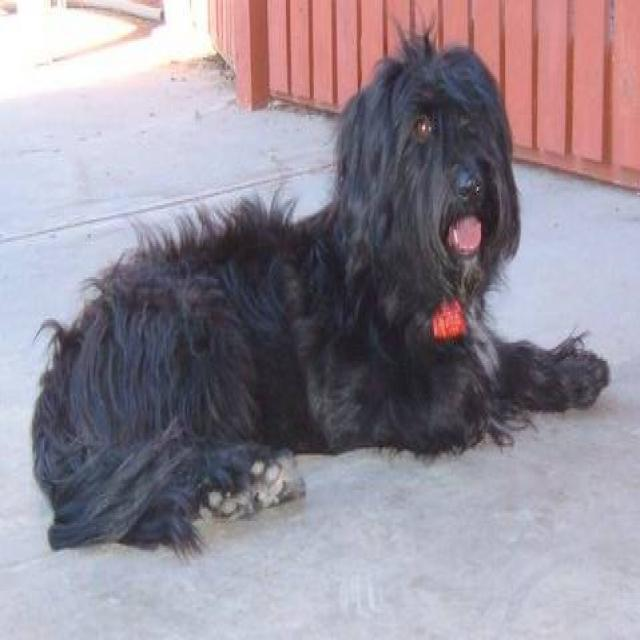dog: (25, 30, 613, 564)
